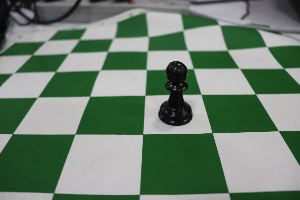black_pawn: (155, 51, 196, 130)
